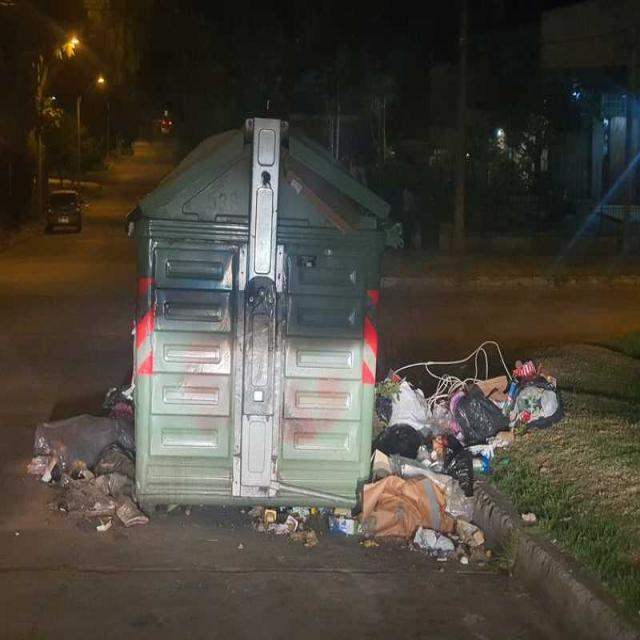high trash: (251, 341, 565, 562), (28, 385, 149, 531)
